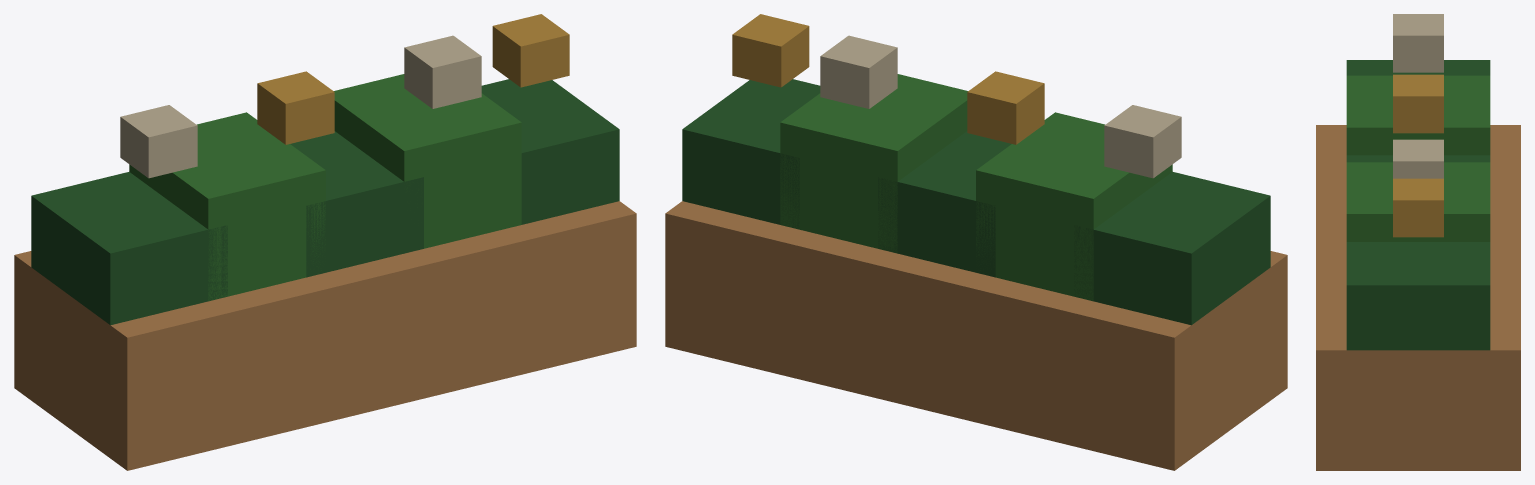
Rendered from FlowerBox.fbx.
3 renders of one model, left to right at view 1: azimuth 30°, elevation 25°; view 2: azimuth 150°, elevation 25°; view 3: azimuth 270°, elevation 25°, orthographic. The views are drawn at different scales.
Parts seen in each view (by area): view 1: Kit_FlowerBox; view 2: Kit_FlowerBox; view 3: Kit_FlowerBox.
Boxes of the visible parts, bbox=[...] form: Kit_FlowerBox: bbox=[14, 14, 636, 470]; Kit_FlowerBox: bbox=[665, 14, 1287, 470]; Kit_FlowerBox: bbox=[1316, 14, 1520, 470].
Size of the model in its own units: 0.52 by 0.28 by 0.2.
